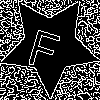F: (24, 20, 66, 72)
